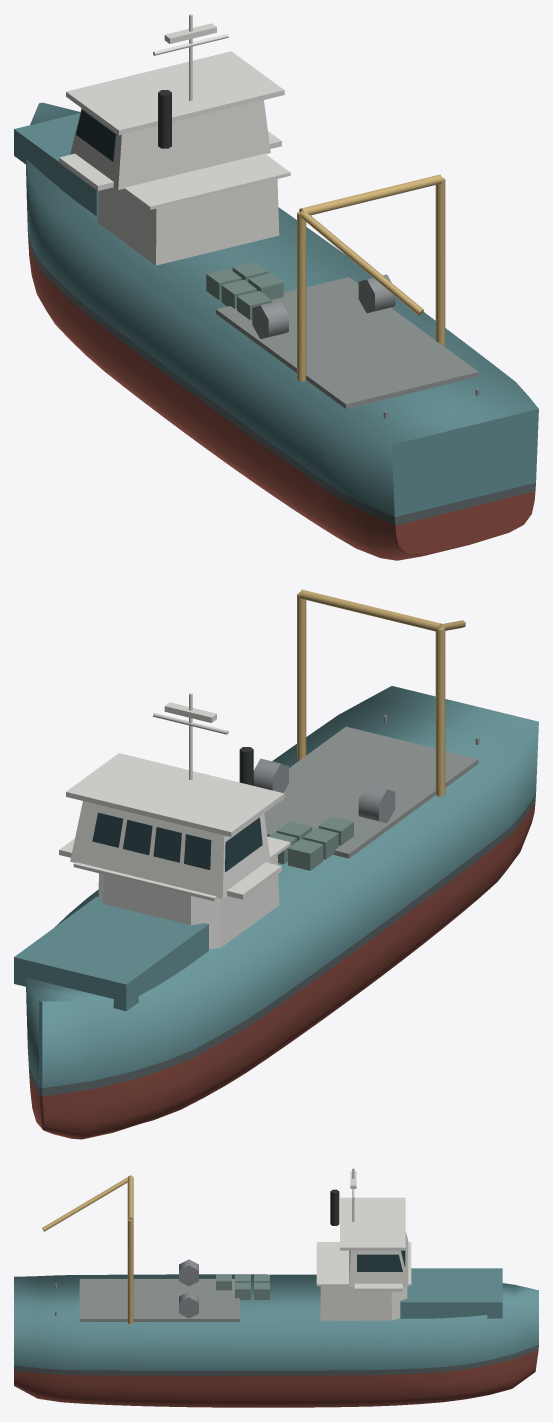
File: fishing-low.glb
The picture shows the model from 3 angles, top to bottom: view 1: azimuth 30°, elevation 25°; view 2: azimuth 150°, elevation 25°; view 3: azimuth 270°, elevation 25°; orthographic projection. The views are drawn at different scales.
Visible parts, largest first — view 1: hull, white, bottom, deck, ochre, stripe, green, metal, window, black; view 2: hull, white, bottom, deck, ochre, window, stripe, green, metal; view 3: hull, bottom, white, deck, stripe, ochre, green, metal, window, black.
Part boxes in pixels (box(x1,y1,x2,y2)): hull: box(14, 102, 538, 516); white: box(59, 14, 290, 265); bottom: box(28, 240, 535, 560); deck: box(216, 277, 478, 408); ochre: box(297, 174, 445, 381); stripe: box(27, 230, 535, 525); green: box(206, 262, 283, 319); metal: box(252, 274, 479, 418); window: box(76, 109, 116, 161); black: box(158, 90, 171, 148); hull: box(14, 686, 538, 1087); white: box(59, 693, 290, 949); bottom: box(29, 803, 535, 1139); deck: box(264, 726, 478, 858); ochre: box(297, 589, 465, 796); window: box(92, 812, 262, 872); stripe: box(28, 794, 535, 1096); green: box(268, 816, 353, 870); metal: box(253, 715, 479, 823); hull: box(14, 1268, 538, 1370); bottom: box(14, 1350, 538, 1407); white: box(316, 1168, 411, 1320); deck: box(79, 1279, 239, 1321); stripe: box(14, 1345, 538, 1375); ochre: box(42, 1175, 133, 1324); green: box(216, 1274, 269, 1299); metal: box(55, 1259, 198, 1318); window: box(357, 1250, 405, 1271); black: box(330, 1189, 339, 1225).
Bounding box in the file's own units: 9 × 16.9 × 36.
